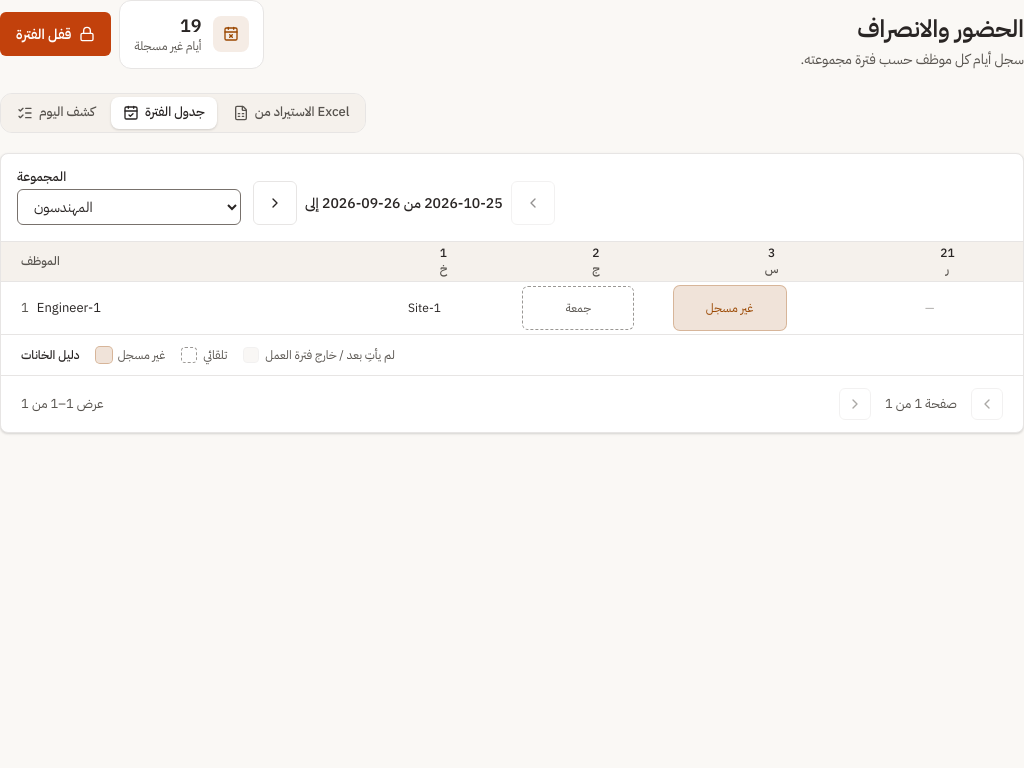
locking with missing days lists them and needs the confirm checkbox
What coordinates should you click on to do the following:
click the button "قفل الفترة"
I would click on:
 (56, 34)
Its box is [0,12,111,56].
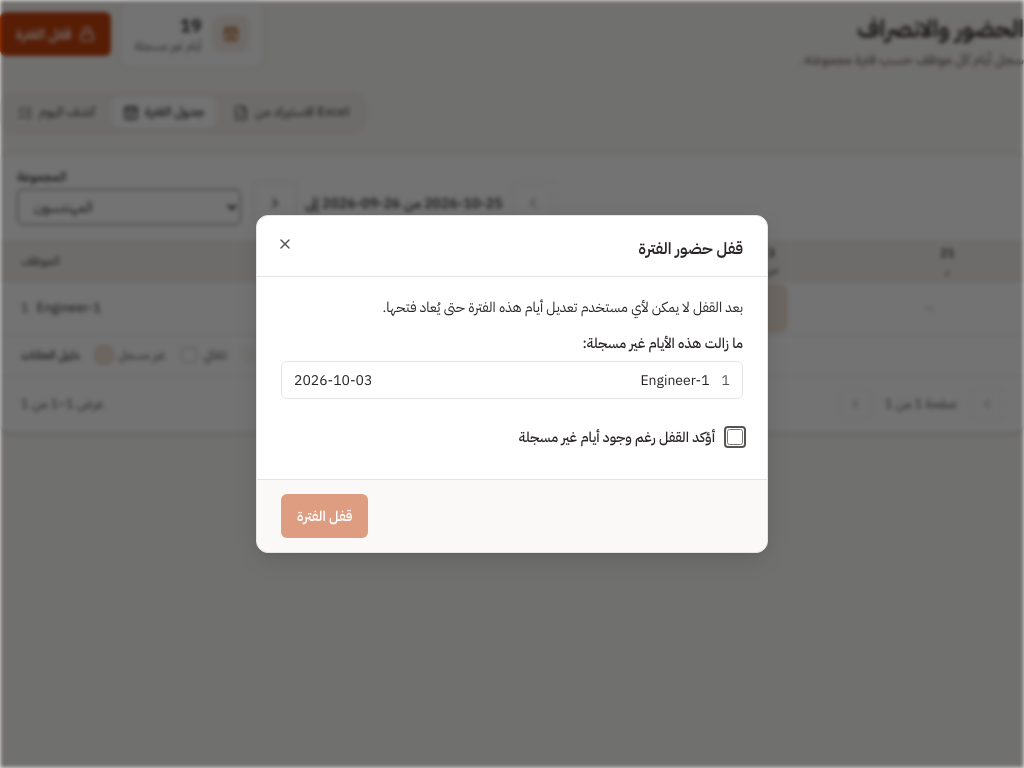
Check: the text "بعد القفل لا يمكن لأي مستخدم تعديل أيام هذه الفترة حتى يُعاد فتحها." is shown, box [382,298,743,316]
Check: the list item shows "Engineer-1", box [640,371,710,389]
Check: the list item shows "2026-10-03", box [294,371,372,389]
What coordinates should you click on to do the following:
click the checkbox labelled "أؤكد القفل رغم وجود أيام غير مسجلة"
I would click on:
 (735, 437)
Its box is [727,429,743,445].
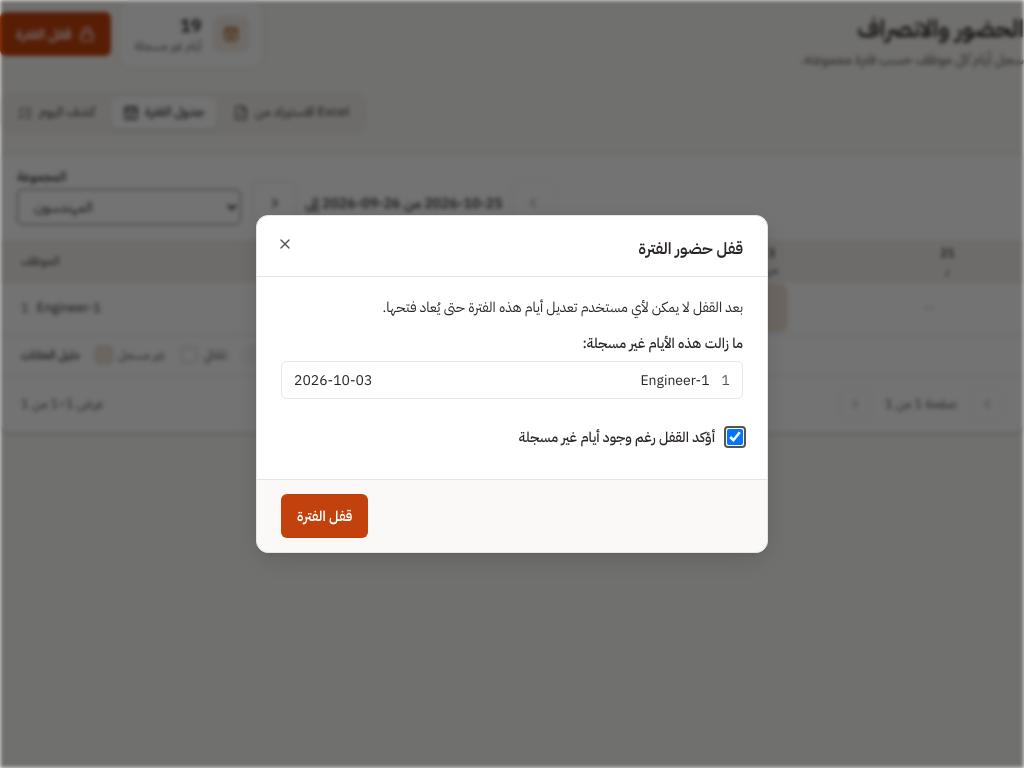
Check: the button "قفل الفترة" is enabled
What coordinates should you click on to do the following:
click the button "قفل الفترة"
I would click on:
 (325, 516)
Its box is [281,494,368,538].
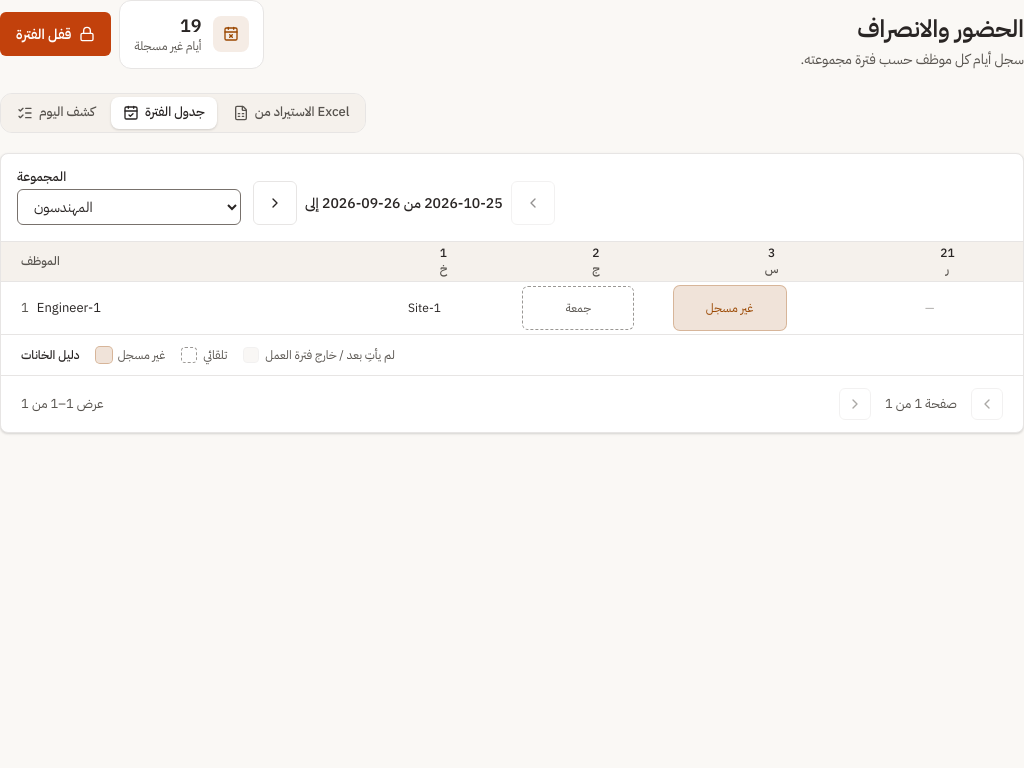
Check: the dialog is gone
